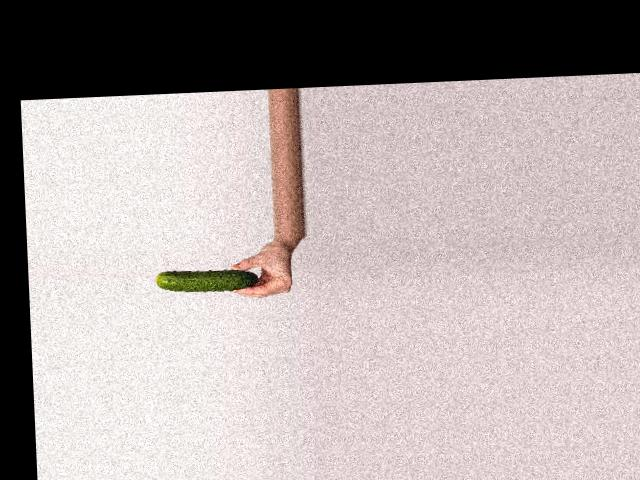cucumber: (156, 268, 258, 293)
